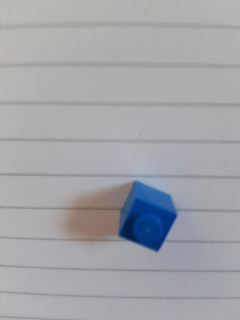1x1 blue: (115, 178, 180, 255)
